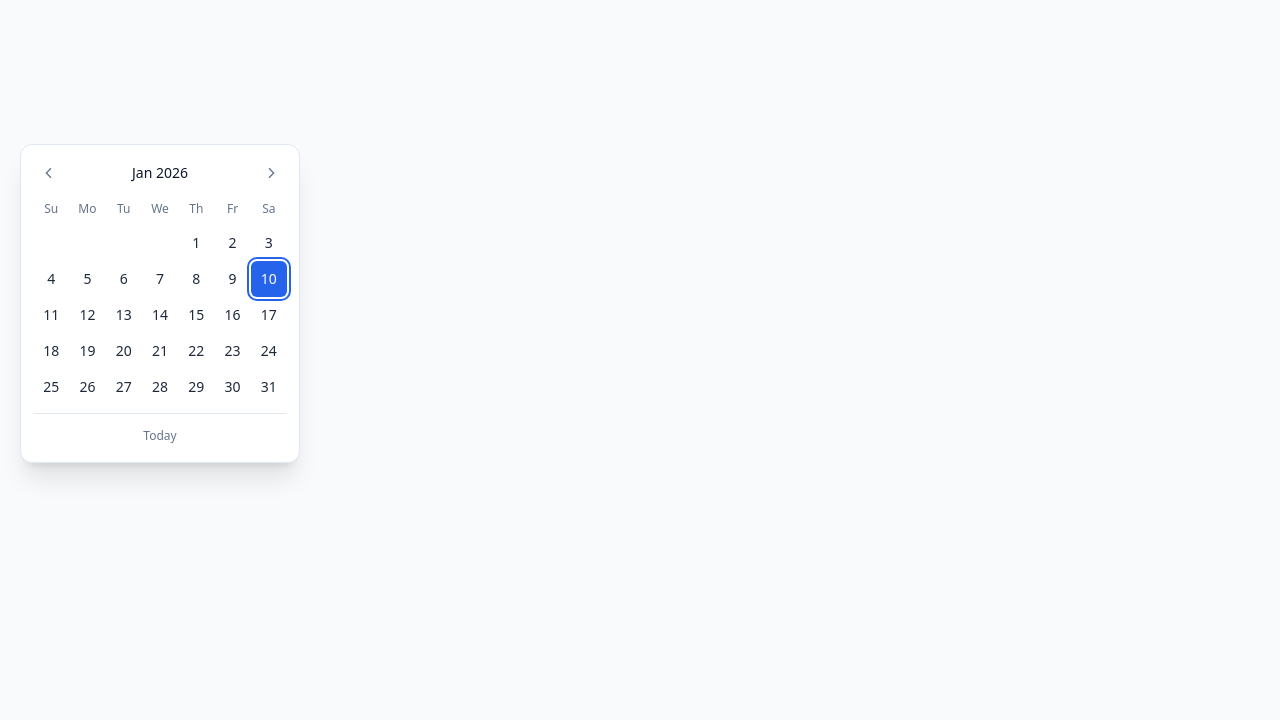
it: CalendarPopup › month navigation › wraps from January to December of previous year
This screenshot has width=1280, height=720.
Expected: the text "Jan 2026" is shown, top-left (132, 163), bottom-right (188, 183)
Step 1. Click the button named "Previous month" → (49, 173), box top-left (33, 157), bottom-right (65, 189)
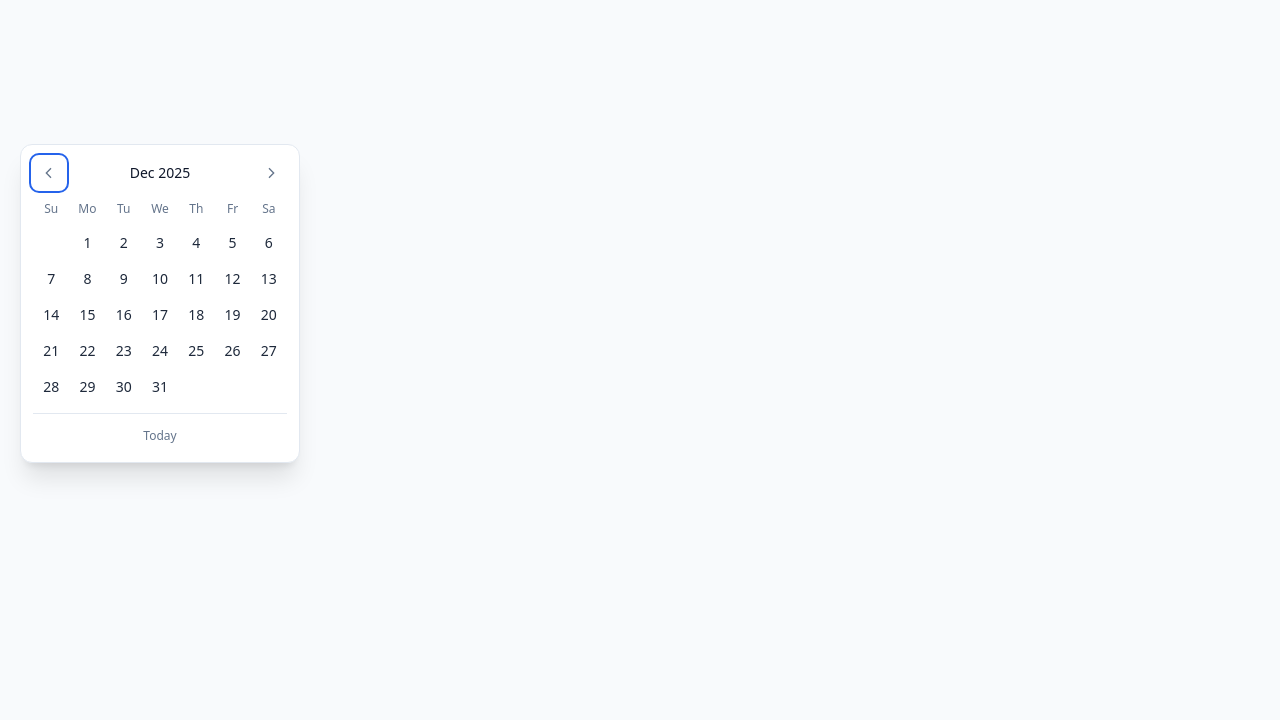
Now the text "Dec 2025" is shown, box top-left (130, 163), bottom-right (190, 183)
